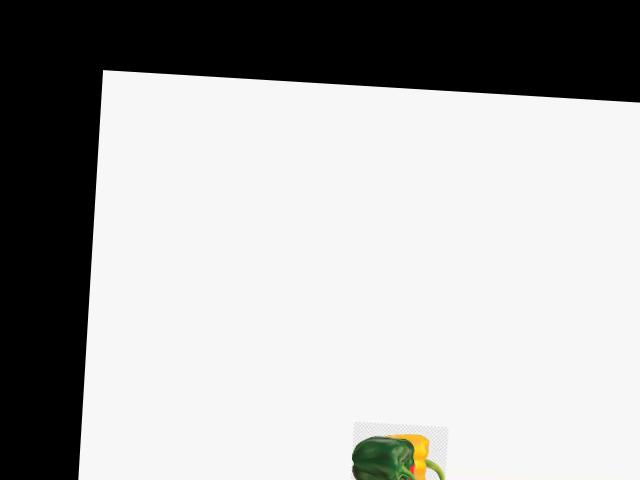bell_pepper: (351, 462, 442, 480)
